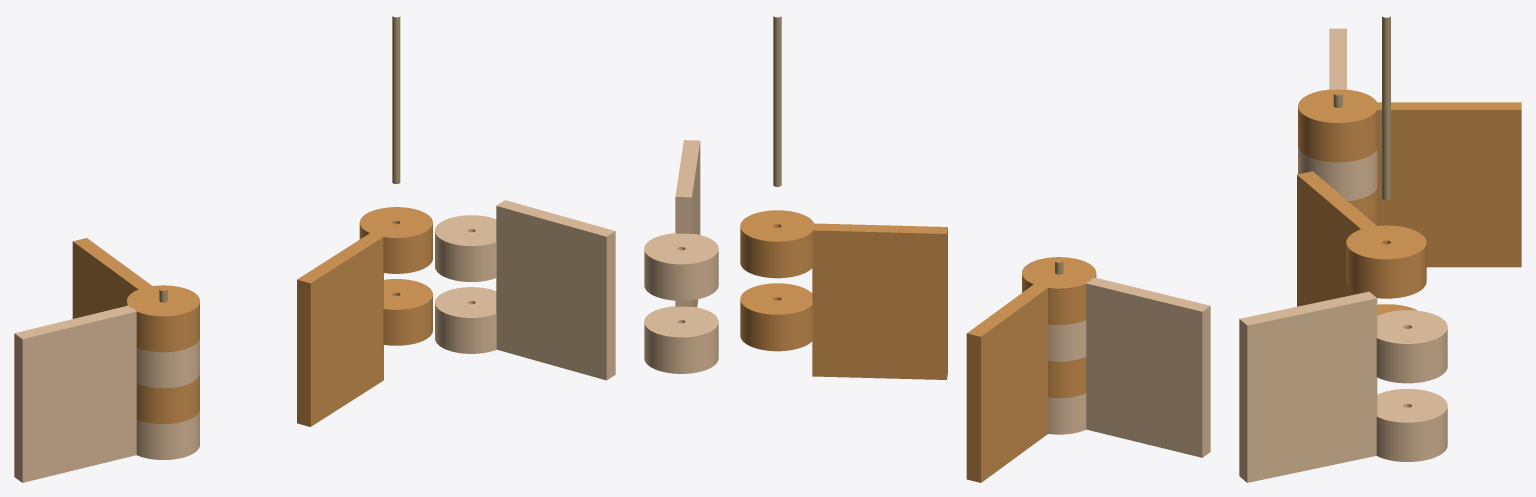
The picture shows the model from 3 angles, left to right: view 1: azimuth 30°, elevation 25°; view 2: azimuth 150°, elevation 25°; view 3: azimuth 270°, elevation 25°; orthographic projection. The views are drawn at different scales.
Bounding box in the file's own units: 3.16 × 1.96 × 1.27.
